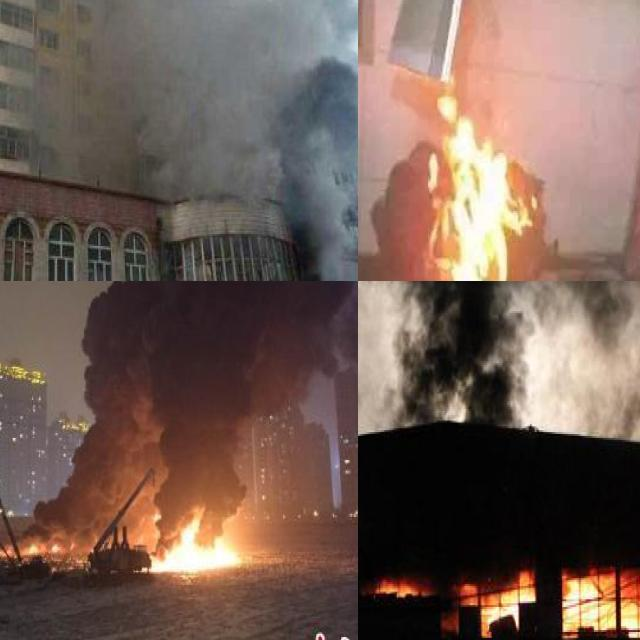fire: (423, 80, 535, 281), (146, 503, 242, 575), (560, 561, 640, 638), (465, 569, 534, 630)
smoke: (0, 0, 358, 281), (0, 281, 358, 550), (358, 281, 640, 440)
